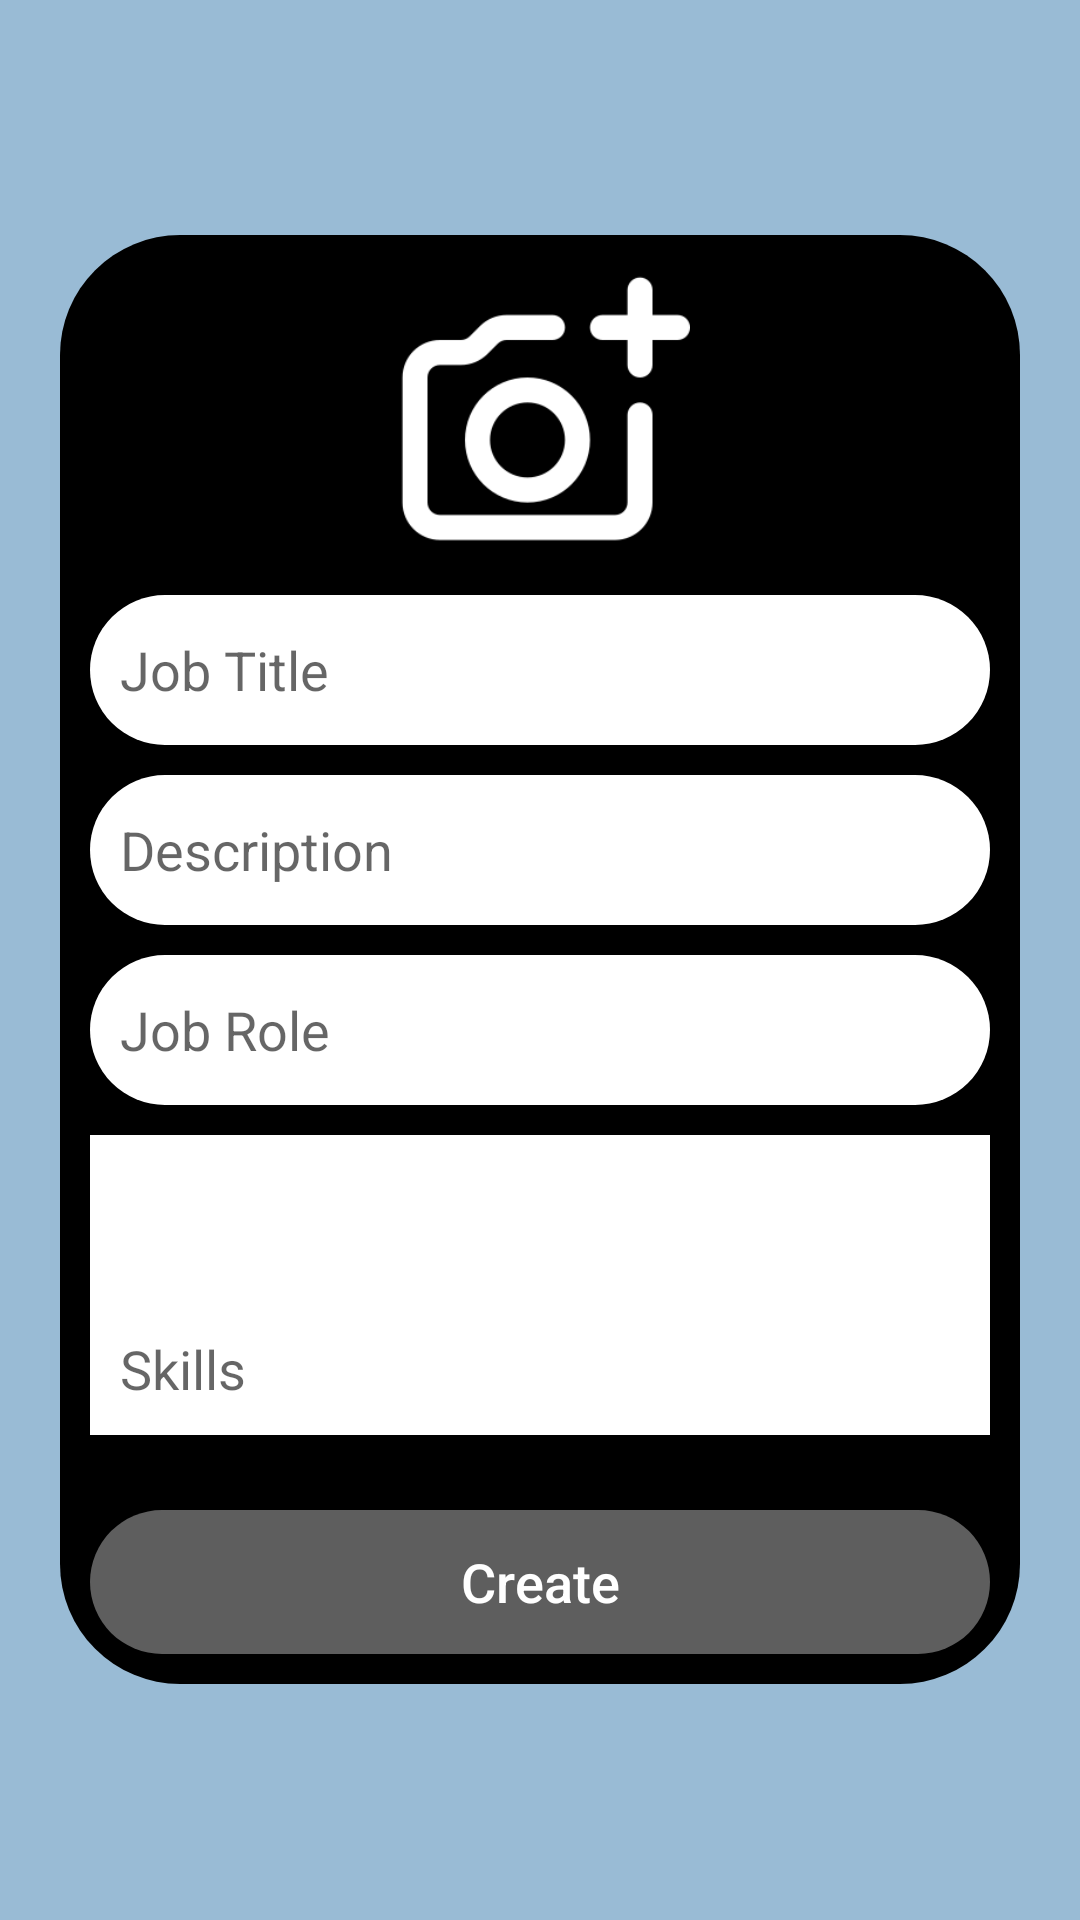

Icons on this 1080 x 1920 Android screen, each with the point to tap as (x=x, y=y):
addphoto: (x=545, y=409)
